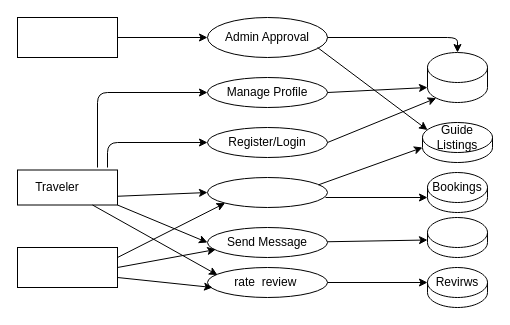
Image size: 510x325. Some labels were removed from this diagram. The centre of each missing label's shape, as x and y in pixels:
Admin: pixel 67 37
Book Guide: pixel 267 192
Guide: pixel 67 267
Messages: pixel 457 237
UserDB: pixel 457 77
